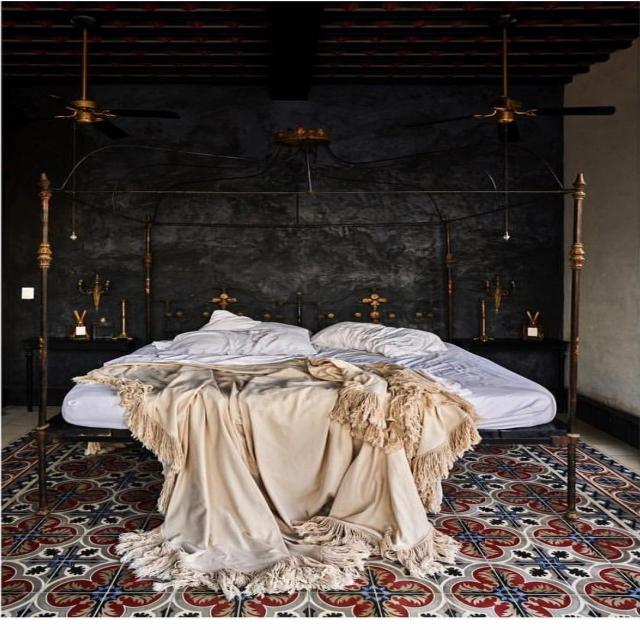bed: (34, 294, 578, 581)
